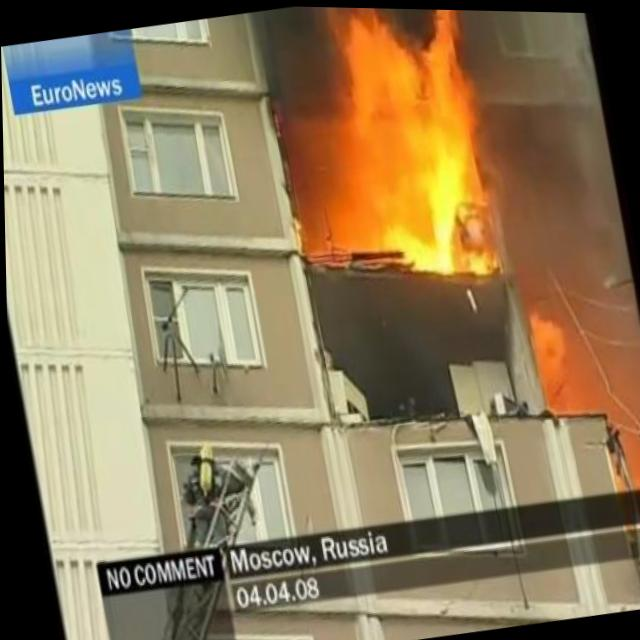fire: (308, 5, 516, 298)
